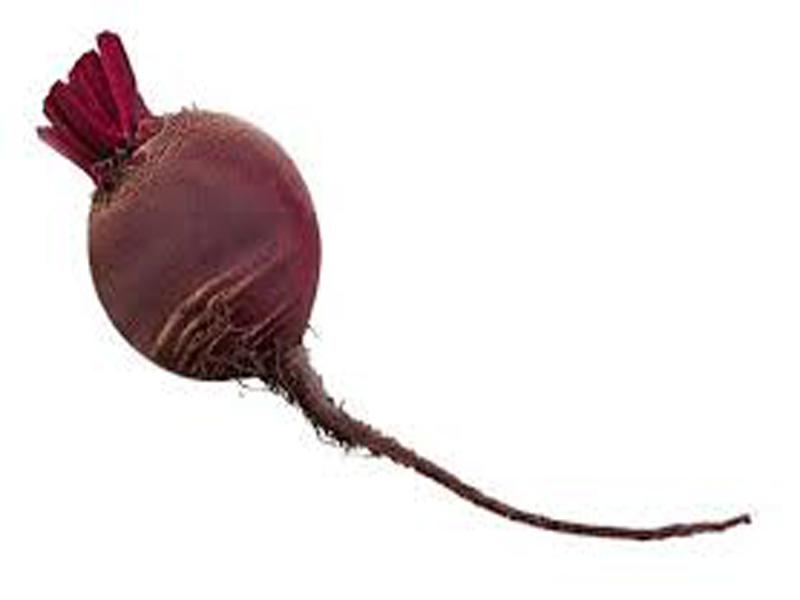Beet: (40, 30, 757, 540)
